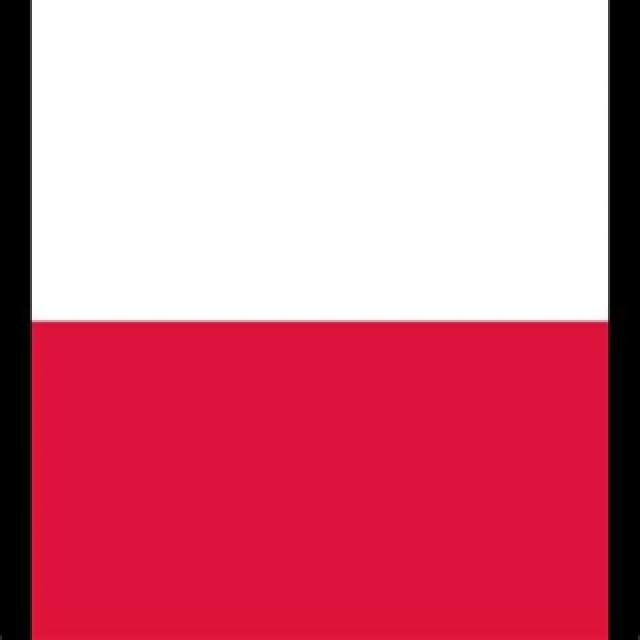poland: (25, 1, 640, 640)
